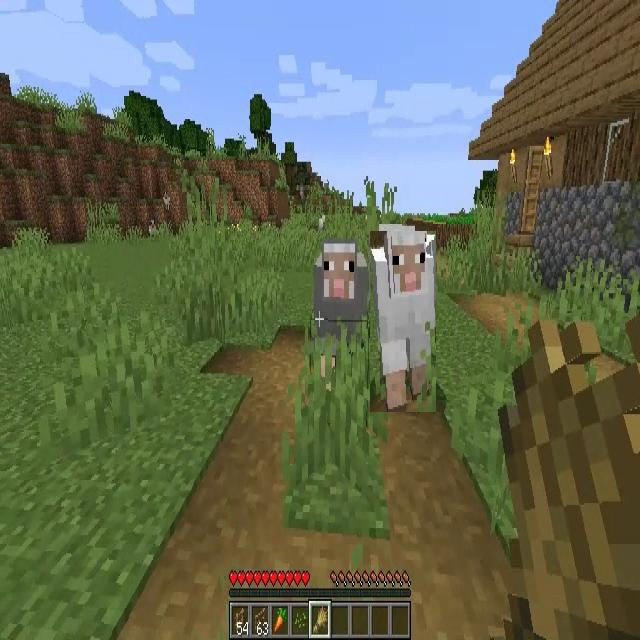sheep: (370, 231, 436, 412), (314, 239, 370, 340)
